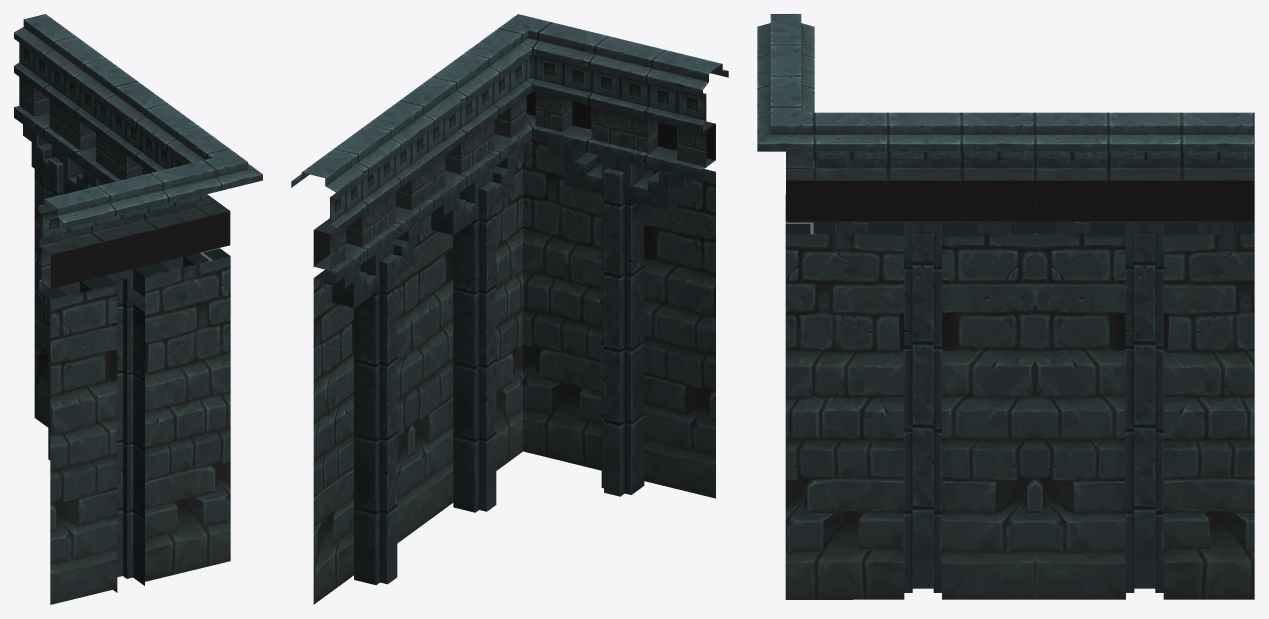
File: Stage_DiXiaCheng_DiMianBaoBian05.FBX
The picture shows the model from 3 angles, left to right: view 1: azimuth 30°, elevation 25°; view 2: azimuth 150°, elevation 25°; view 3: azimuth 270°, elevation 25°; orthographic projection. The views are drawn at different scales.
Parts seen in each view (by area): view 1: Stage_DiXiaCheng_DiMianBaoBian05; view 2: Stage_DiXiaCheng_DiMianBaoBian05; view 3: Stage_DiXiaCheng_DiMianBaoBian05.
Boxes of the visible parts, x1,y1,x2,y2 form: Stage_DiXiaCheng_DiMianBaoBian05: [14, 14, 262, 604]; Stage_DiXiaCheng_DiMianBaoBian05: [291, 14, 728, 604]; Stage_DiXiaCheng_DiMianBaoBian05: [757, 14, 1254, 599].
Bounding box in the file's own units: 755 × 1458 × 1353.
